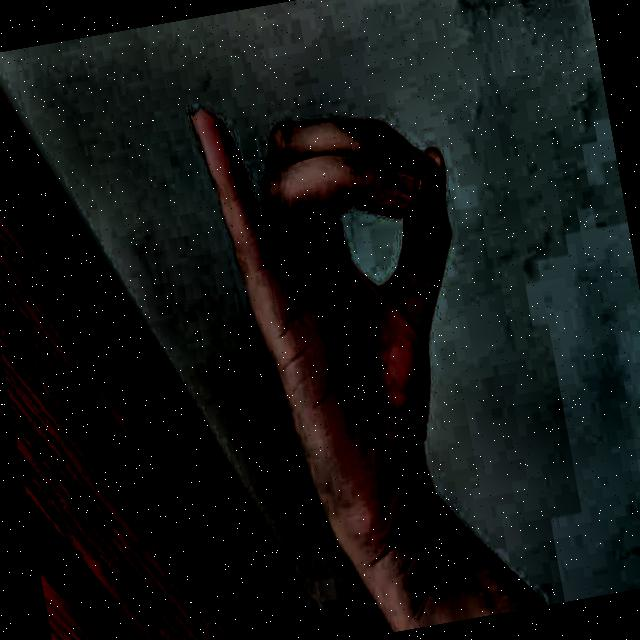Ou: (167, 32, 532, 590)
